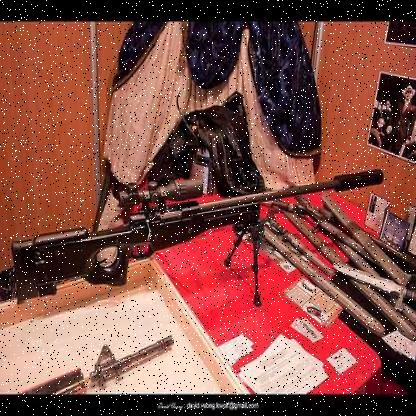rifle: (10, 144, 385, 320)
